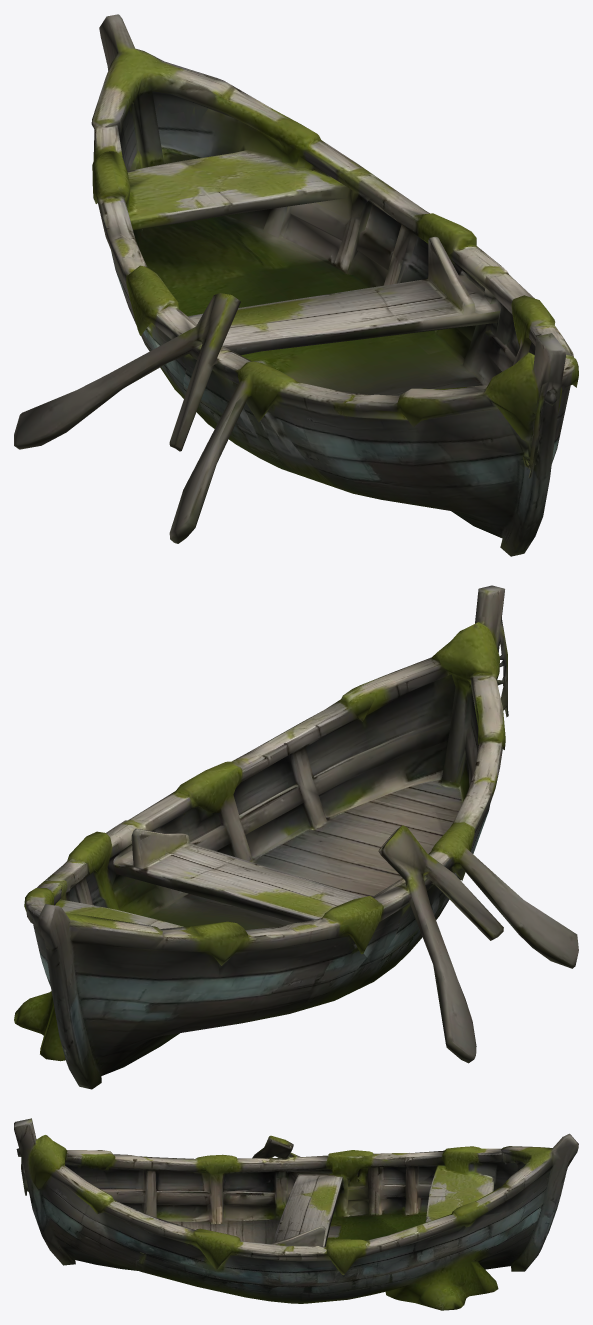
Rendered from RotBoat.opt.glb.
The picture shows the model from 3 angles, top to bottom: view 1: azimuth 30°, elevation 25°; view 2: azimuth 150°, elevation 25°; view 3: azimuth 270°, elevation 25°; orthographic projection. The views are drawn at different scales.
Parts seen in each view (by area): view 1: node_0; view 2: node_0; view 3: node_0.
Part boxes in pixels (x1,y1,x2,y2): node_0: [14, 14, 578, 556]; node_0: [14, 585, 578, 1089]; node_0: [14, 1118, 578, 1310].
Size of the model in its own units: 0.6208 by 0.3393 by 1.15.
Materials: 1 (1 with a texture image).
